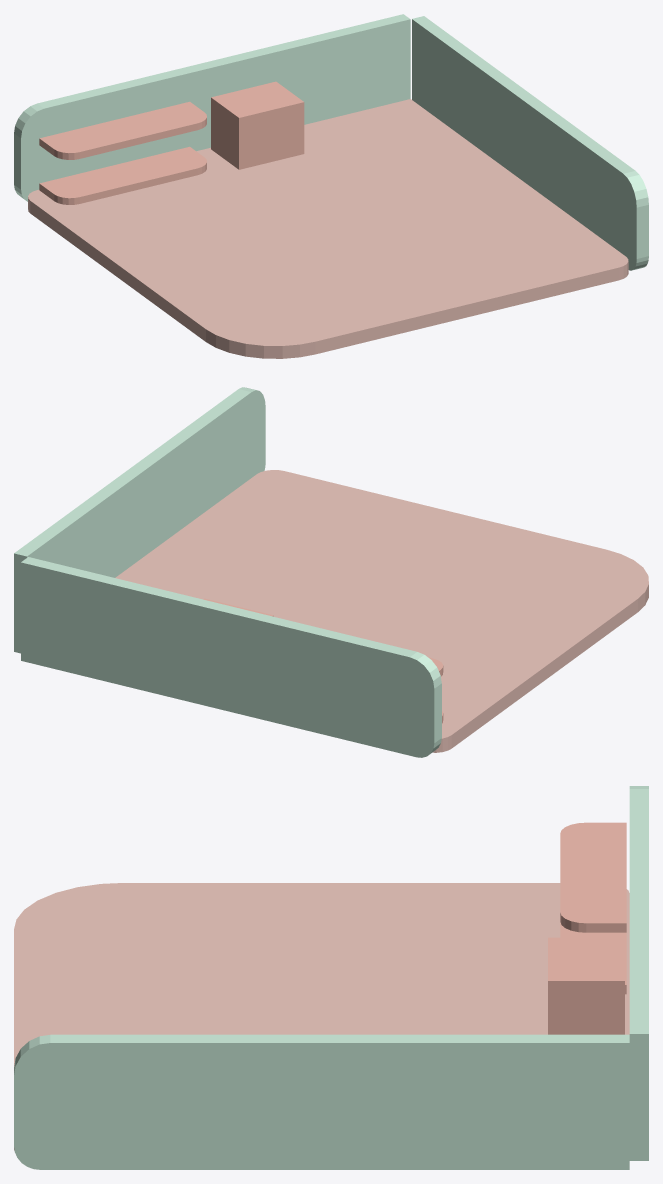
File: store23.glb
3 renders of one model, top to bottom at view 1: azimuth 30°, elevation 25°; view 2: azimuth 150°, elevation 25°; view 3: azimuth 270°, elevation 25°, orthographic. The views are drawn at different scales.
Size of the model in its own units: 3.09 by 0.6794 by 3.08.
